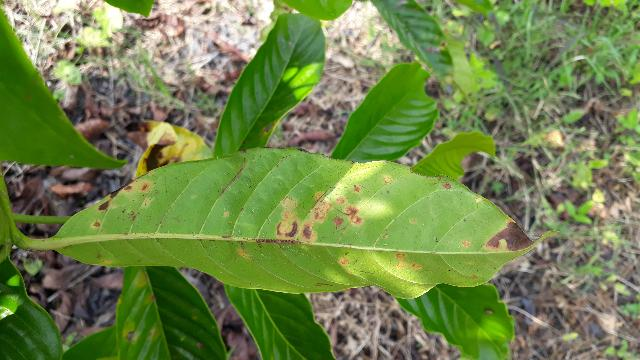rust_level_2: (54, 150, 535, 300)
